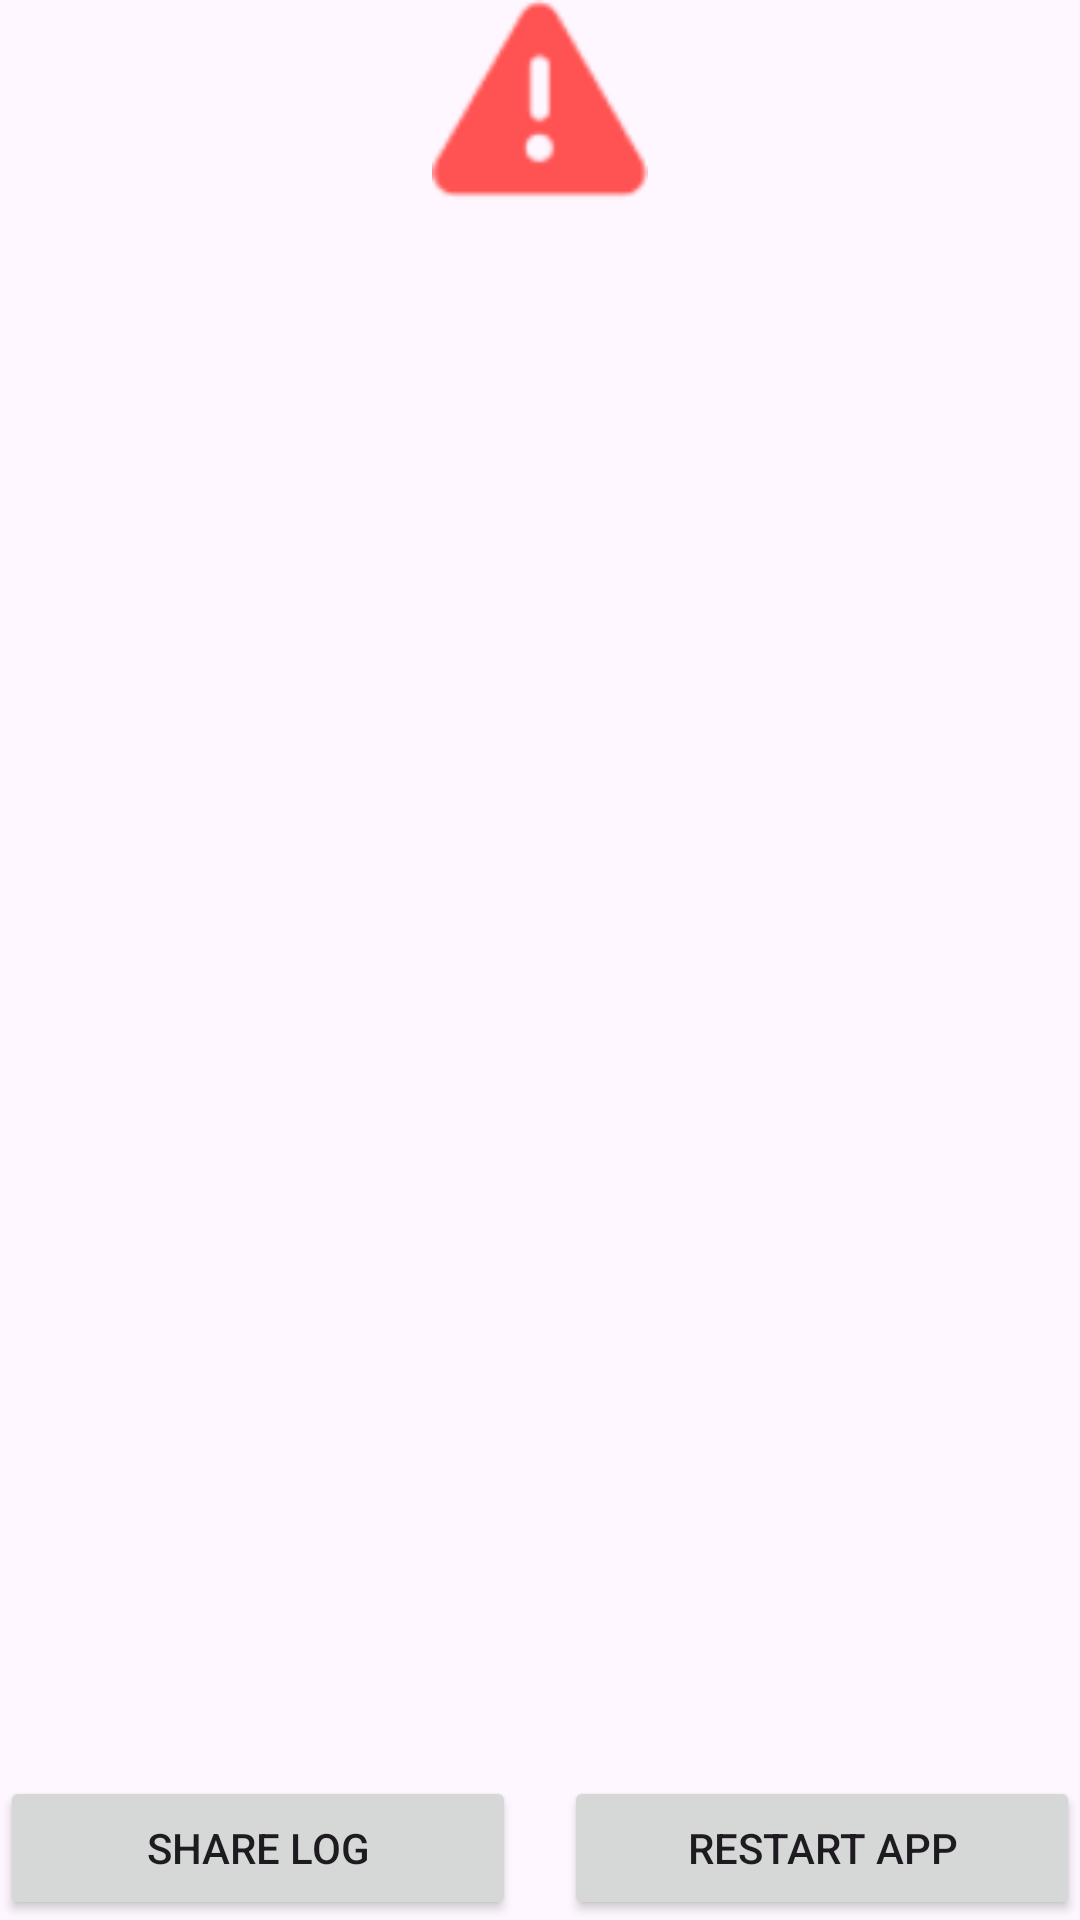

Where icons sit on this 1080 x 1920 app screen, as (x1, y1, x2, y2):
alert: (432, 0, 648, 197)
